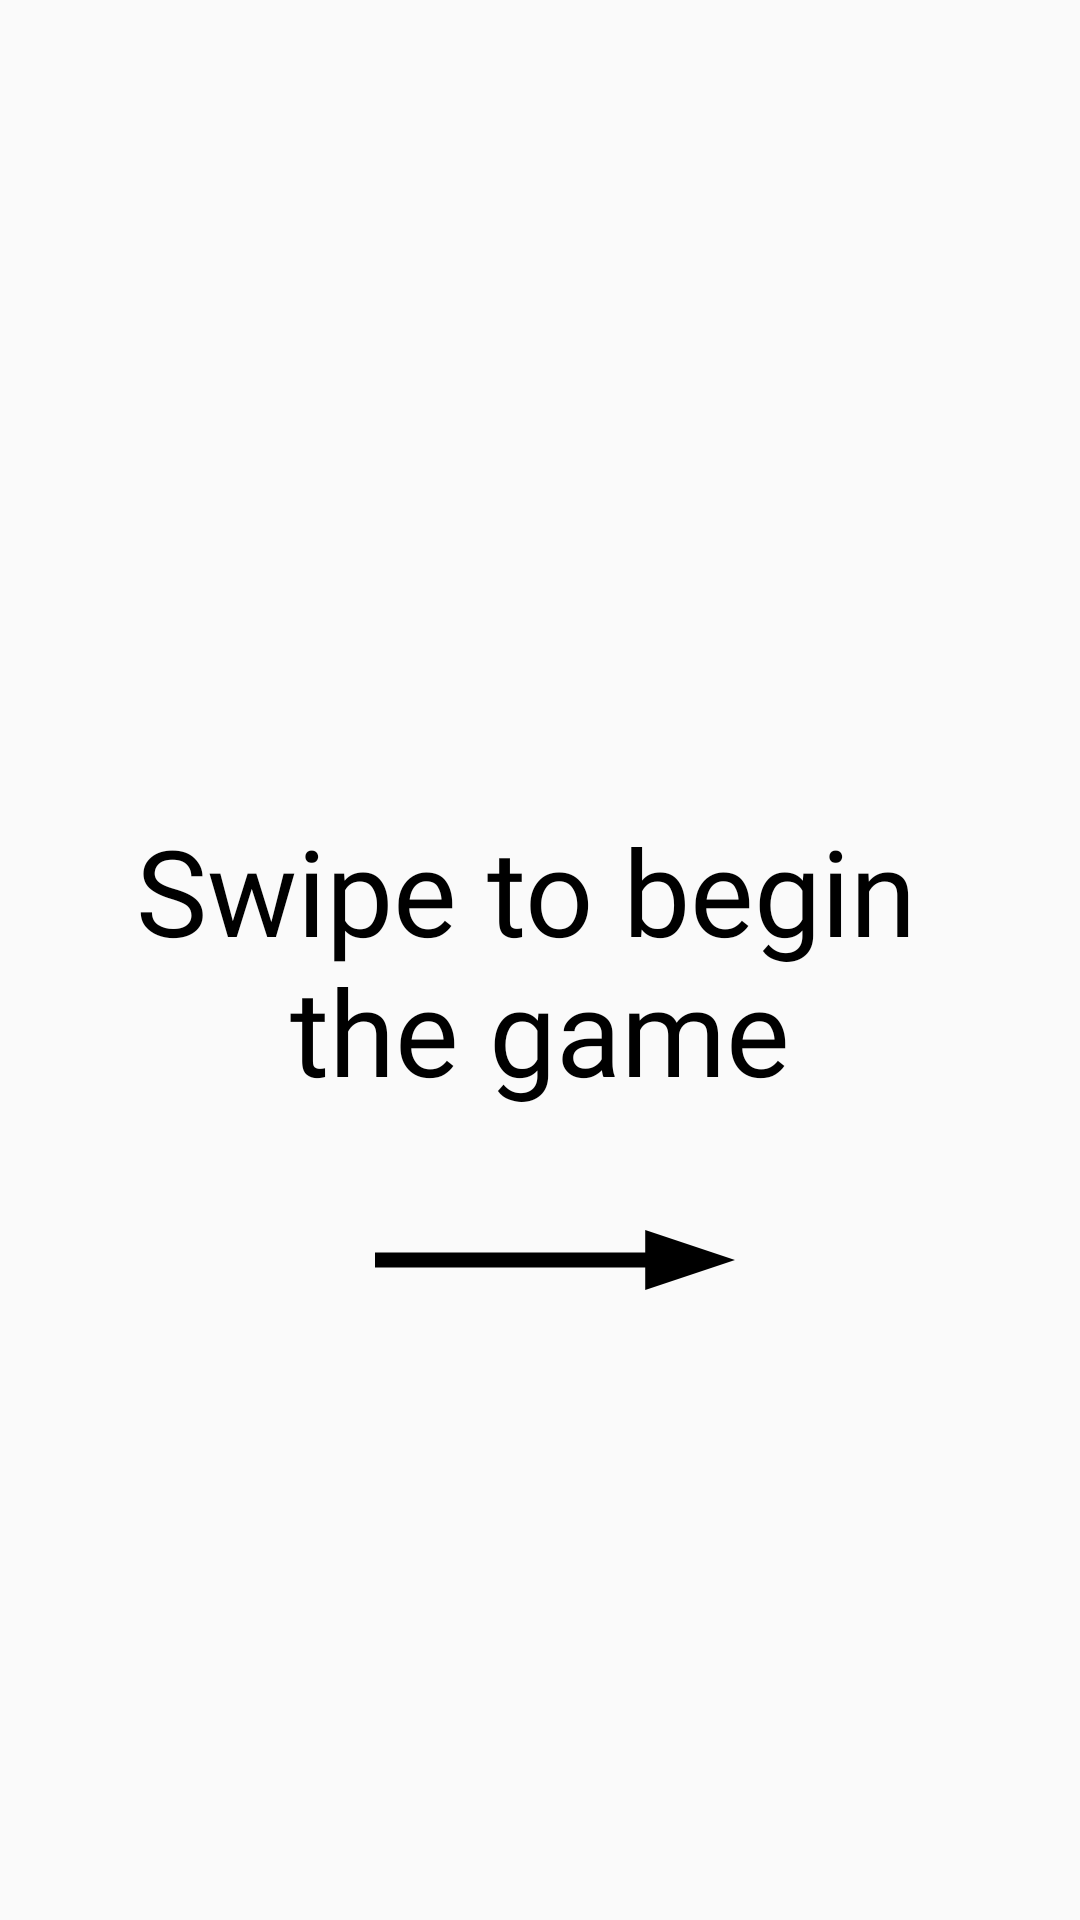

Screen size 1080 × 1920. Icon name, then its box in pixels as [left=x1, top=y1, right=x2, bottom=y2]:
right arrow: [left=375, top=1230, right=735, bottom=1290]
